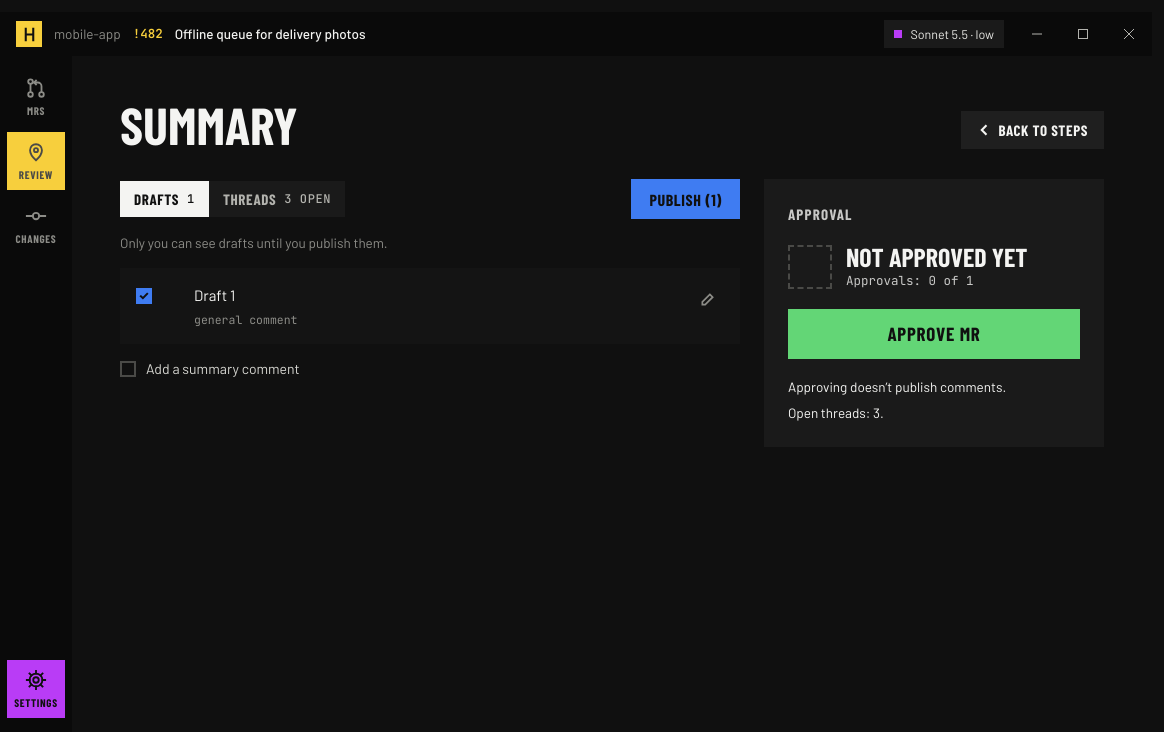
S-05 Approval tile notes (F-14.3) › F-14.3 approved with an unpublished draft: "Approved without comments. Your drafts are waiting, publish them whenever you like." replaces the first note
The width and height of the screenshot is (1164, 732).
Expected: the element named "Comments" is shown, [120,181,345,217]
Expected: the text "Approving doesn’t publish comments." is shown, [788,378,1006,395]
Click the button "Approve MR".
click(934, 334)  # box [788,309,1080,359]
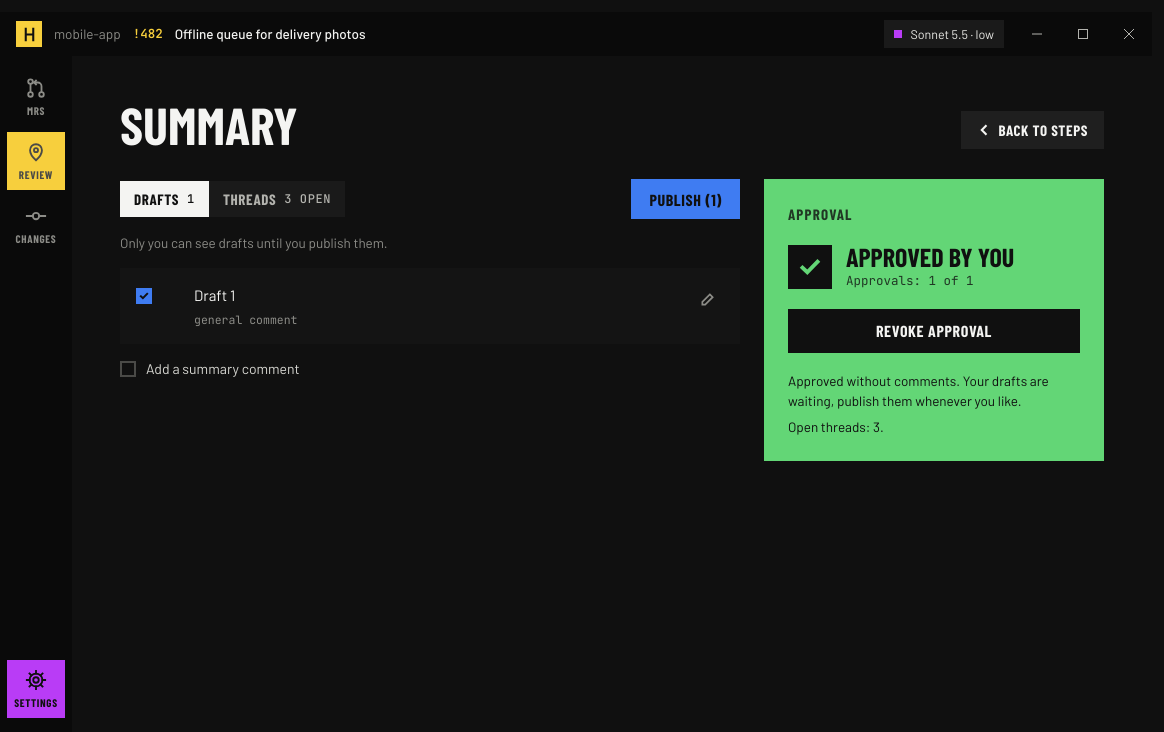
Expected: the text "Approved by you" is shown, [846,244,1014,270]
Expected: the text "Approved without comments. Your drafts are waiting, publish them whenever you like." is shown, [788,372,1049,409]
Expected: the text "Approving doesn’t publish comments." is gone
